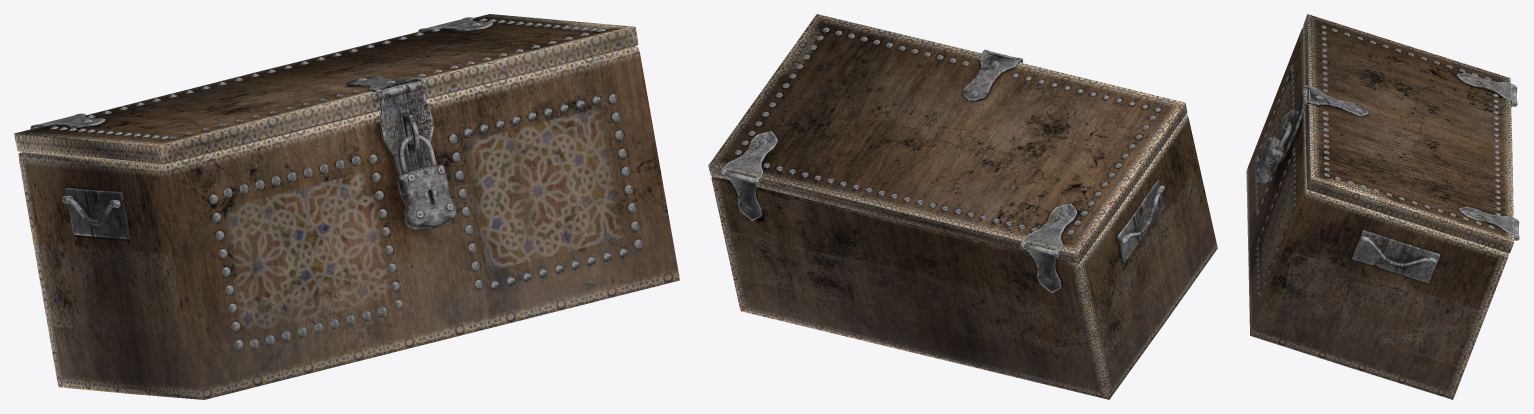
File: chest_04.glb
3 renders of one model, left to right at view 1: azimuth 30°, elevation 25°; view 2: azimuth 150°, elevation 25°; view 3: azimuth 270°, elevation 25°, orthographic. The views are drawn at different scales.
Visible parts, largest first — view 1: chest_Material.002_0; view 2: chest_Material.002_0; view 3: chest_Material.002_0.
Part boxes in pixels (x1,y1,x2,y2): chest_Material.002_0: (14, 14, 679, 399); chest_Material.002_0: (708, 14, 1217, 399); chest_Material.002_0: (1246, 14, 1519, 399).
Size of the model in its own units: 1 by 0.6121 by 0.6735.
Materials: 2 (2 with a texture image).
